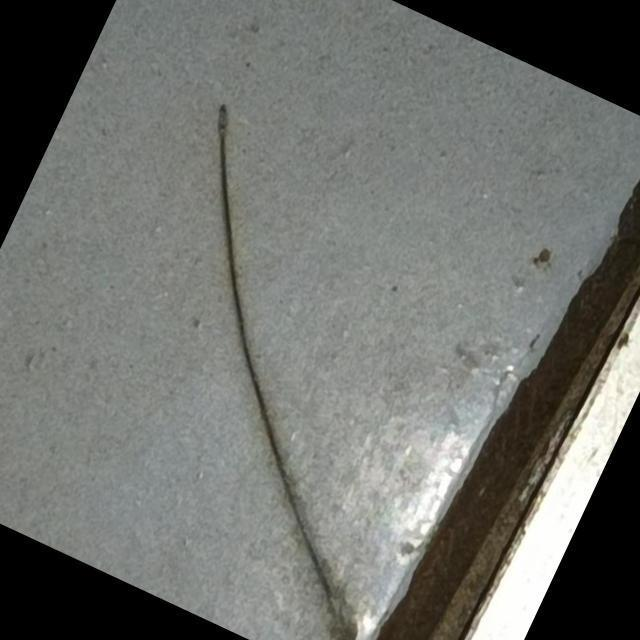defect: (206, 92, 360, 640)
